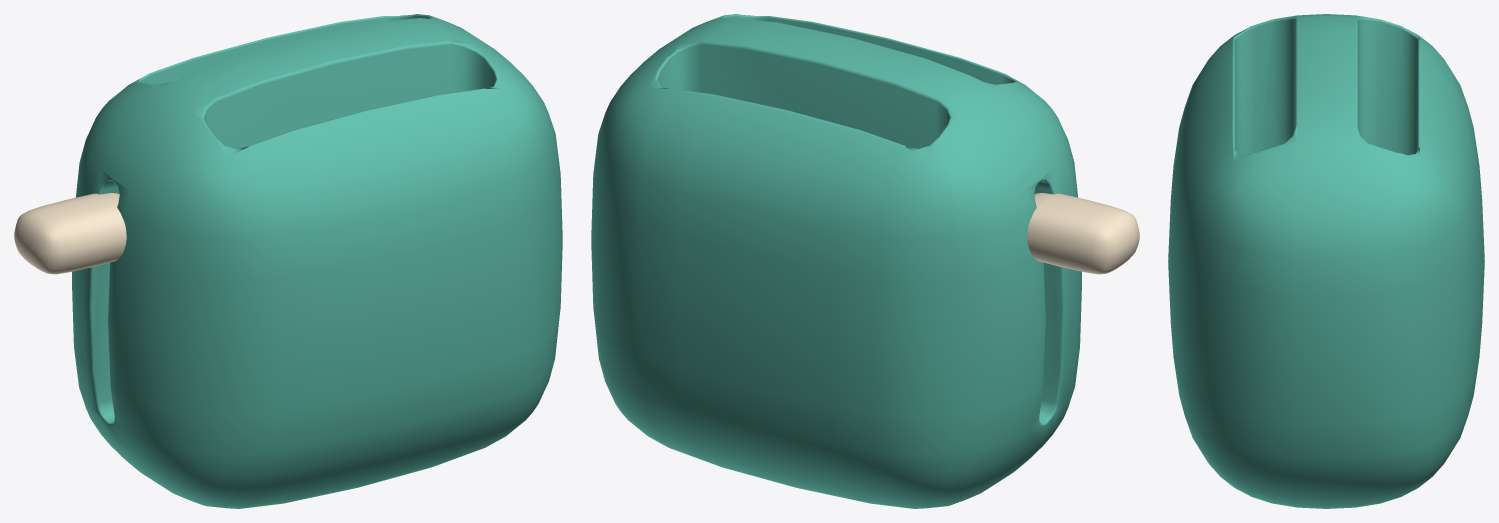
File: toaster_a.glb
The picture shows the model from 3 angles, left to right: view 1: azimuth 30°, elevation 25°; view 2: azimuth 150°, elevation 25°; view 3: azimuth 270°, elevation 25°; orthographic projection. The views are drawn at different scales.
Visible parts, largest first — view 1: body; view 2: body; view 3: body.
Boxes of the visible parts, left/top/right/bottom form: body: left=14, top=14, right=562, bottom=508; body: left=591, top=14, right=1139, bottom=508; body: left=1168, top=14, right=1484, bottom=508.
Bounding box in the file's own units: 0.315 × 0.25 × 0.18.
